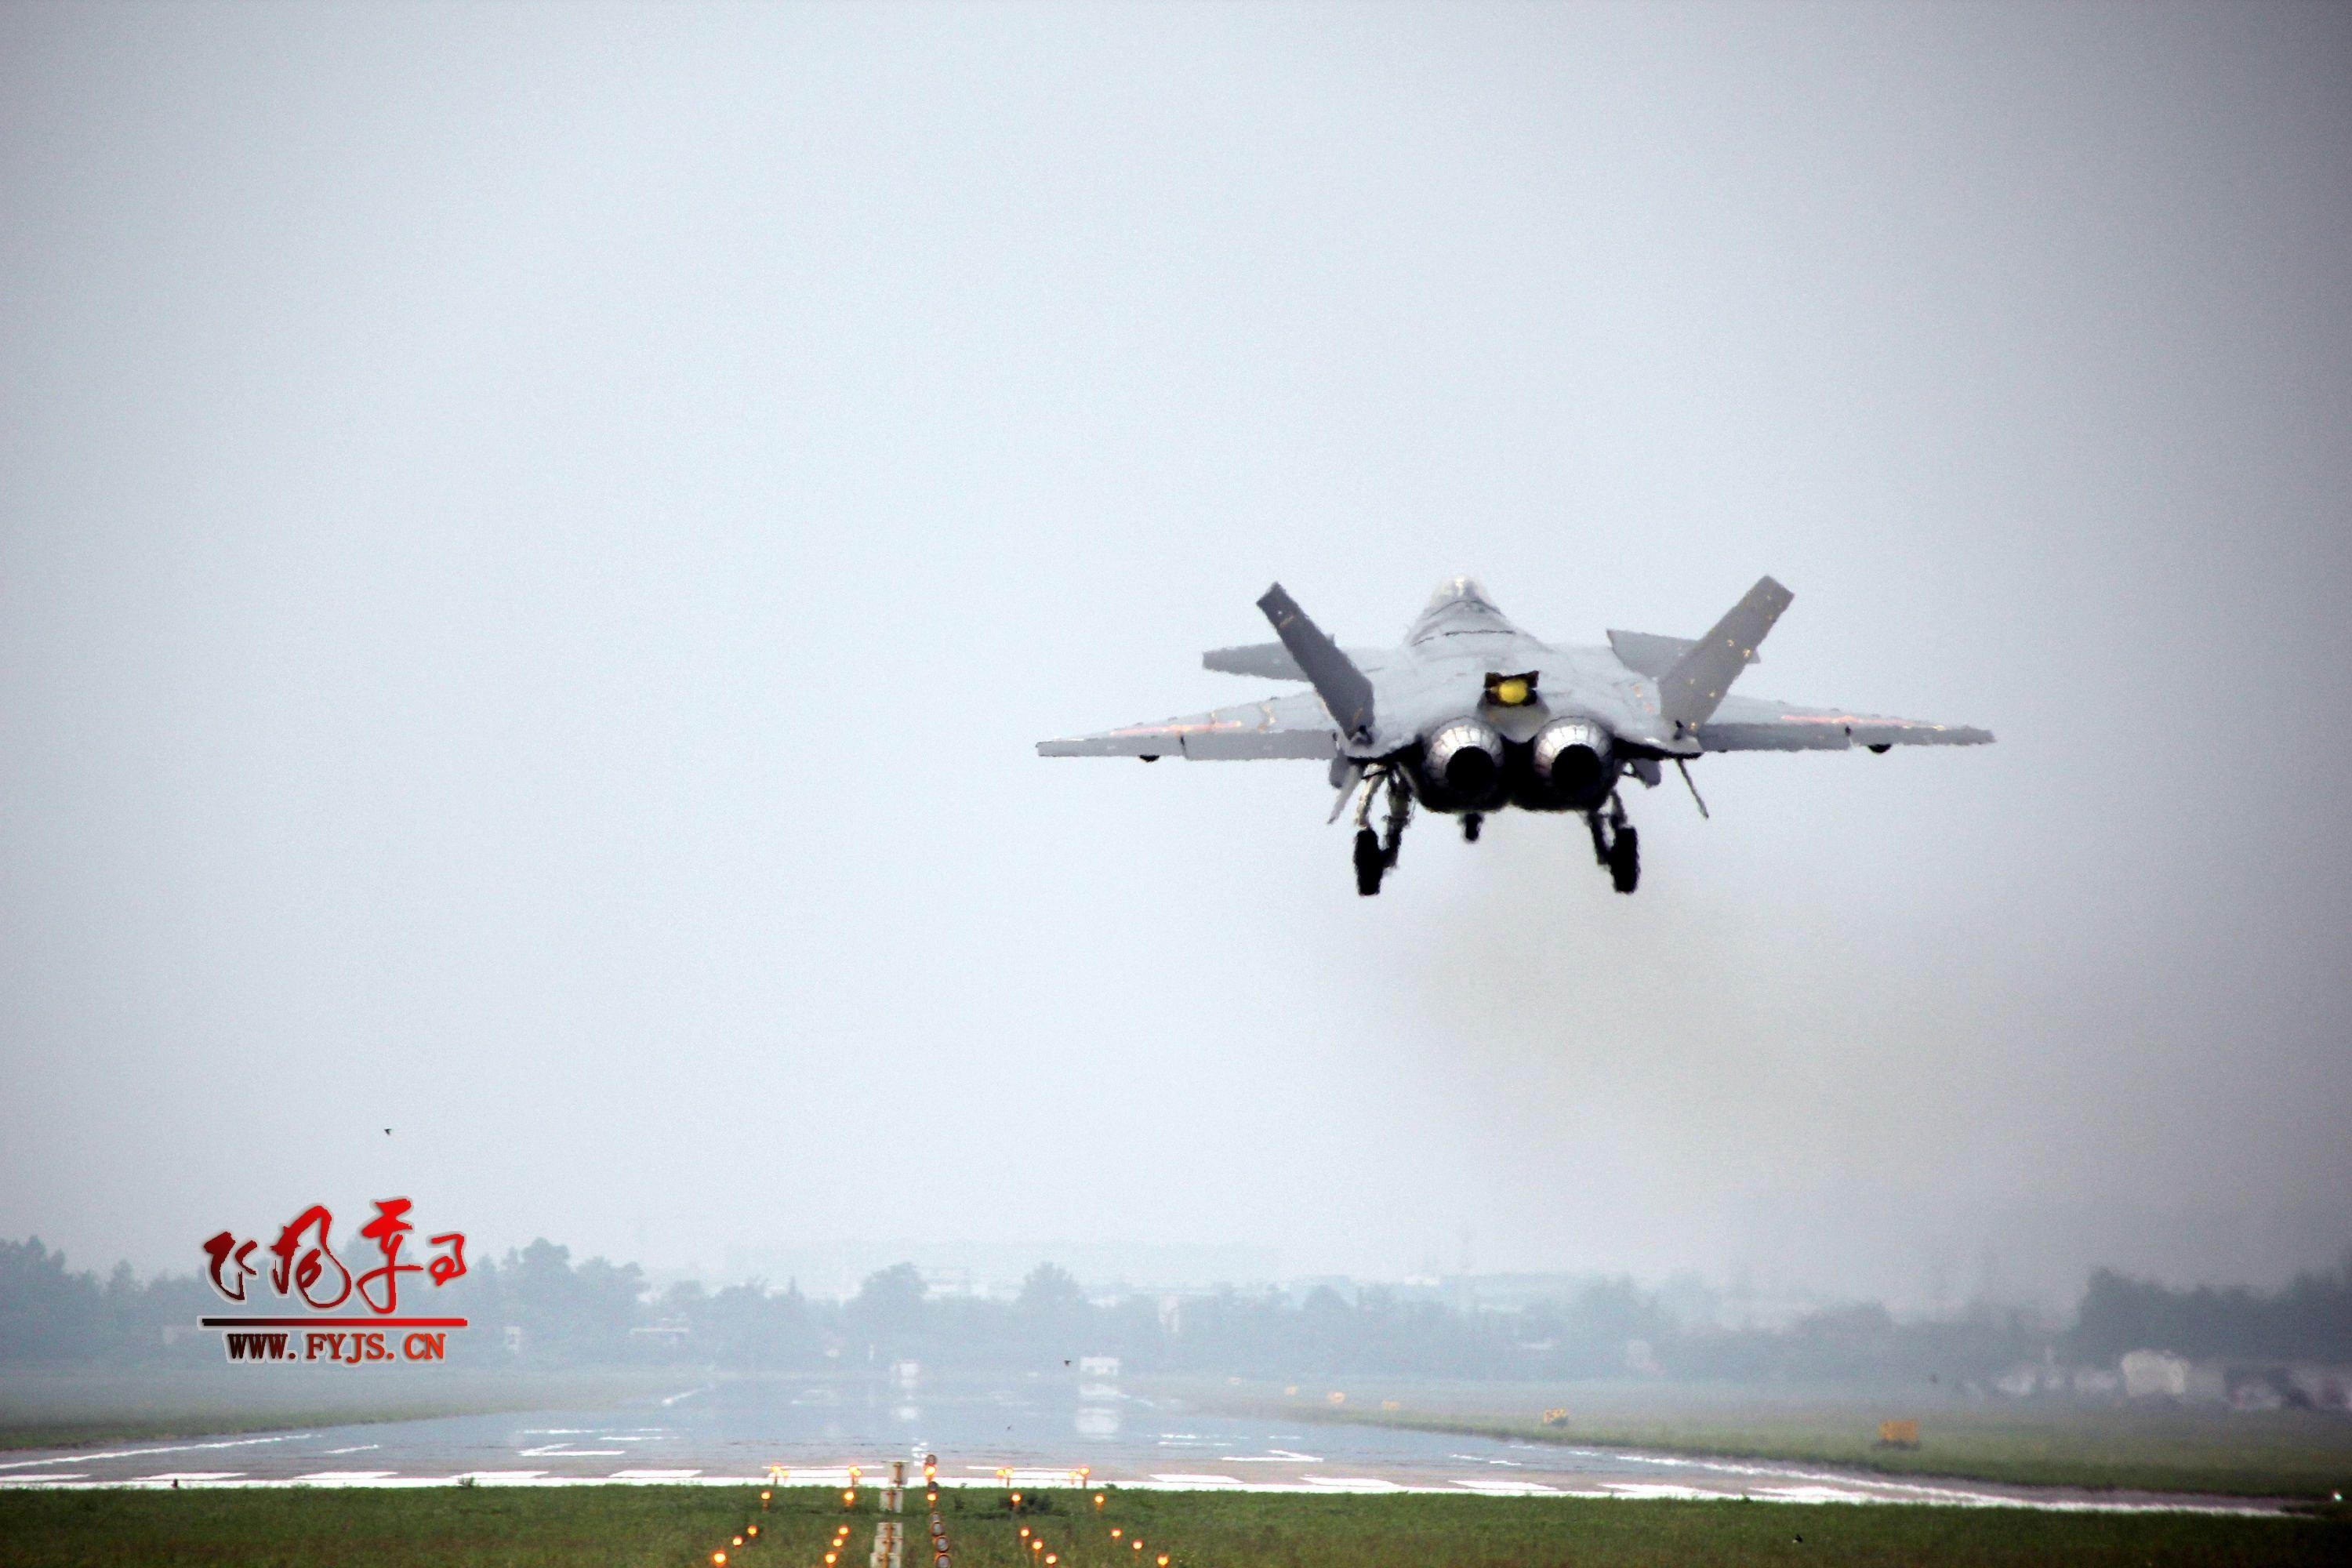J20: (1034, 572, 1999, 896)
